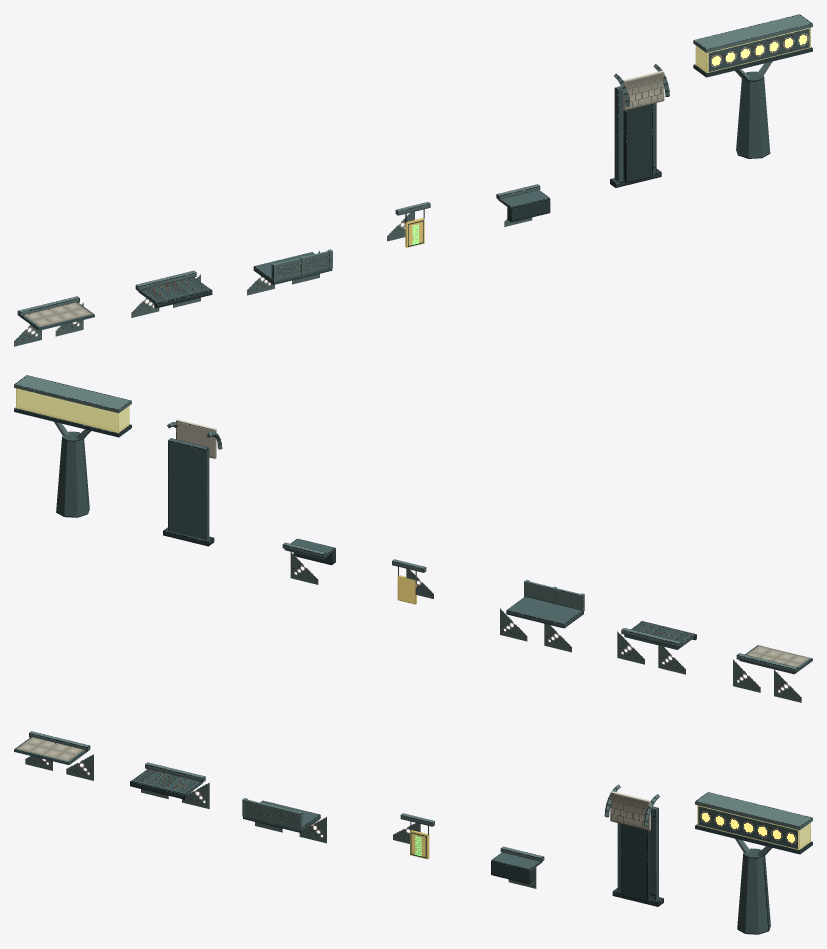
Rendered from projection_pieces.gltf.
3 views of the same model, one above another, from view 1: azimuth 30°, elevation 25°; view 2: azimuth 150°, elevation 25°; view 3: azimuth 330°, elevation 25° (orthographic).
Parts seen in each view (by area): view 1: ProjTransitViaduct, ProjEntryHood, ProjMembraneAwning, ProjSlatCanopy, ProjBalconySlab, ProjNoStandLedge, ProjSignBracket; view 2: ProjTransitViaduct, ProjEntryHood, ProjBalconySlab, ProjMembraneAwning, ProjSlatCanopy, ProjNoStandLedge, ProjSignBracket; view 3: ProjTransitViaduct, ProjEntryHood, ProjMembraneAwning, ProjSlatCanopy, ProjBalconySlab, ProjNoStandLedge, ProjSignBracket.
Part boxes in pixels (left/top/right/bottom): ProjTransitViaduct: left=693, top=14, right=812, bottom=158; ProjEntryHood: left=610, top=64, right=669, bottom=187; ProjMembraneAwning: left=14, top=296, right=94, bottom=346; ProjSlatCanopy: left=131, top=270, right=212, bottom=317; ProjBalconySlab: left=247, top=249, right=332, bottom=295; ProjNoStandLedge: left=496, top=184, right=550, bottom=226; ProjSignBracket: left=387, top=202, right=430, bottom=247; ProjTransitViaduct: left=14, top=375, right=131, bottom=517; ProjEntryHood: left=163, top=419, right=222, bottom=546; ProjBalconySlab: left=500, top=580, right=584, bottom=652; ProjMembraneAwning: left=733, top=645, right=812, bottom=702; ProjSlatCanopy: left=617, top=621, right=696, bottom=674; ProjNoStandLedge: left=282, top=538, right=335, bottom=584; ProjSignBracket: left=392, top=559, right=433, bottom=604; ProjTransitViaduct: left=695, top=792, right=812, bottom=934; ProjEntryHood: left=604, top=784, right=663, bottom=906; ProjMembraneAwning: left=14, top=731, right=93, bottom=780; ProjSlatCanopy: left=130, top=762, right=209, bottom=808; ProjBalconySlab: left=242, top=798, right=326, bottom=843; ProjNoStandLedge: left=491, top=846, right=544, bottom=888; ProjSignBracket: left=393, top=813, right=434, bottom=859.
Bounding box in the file's own units: 17.55 × 2.97 × 1.1.
7 materials, 7 textured.
